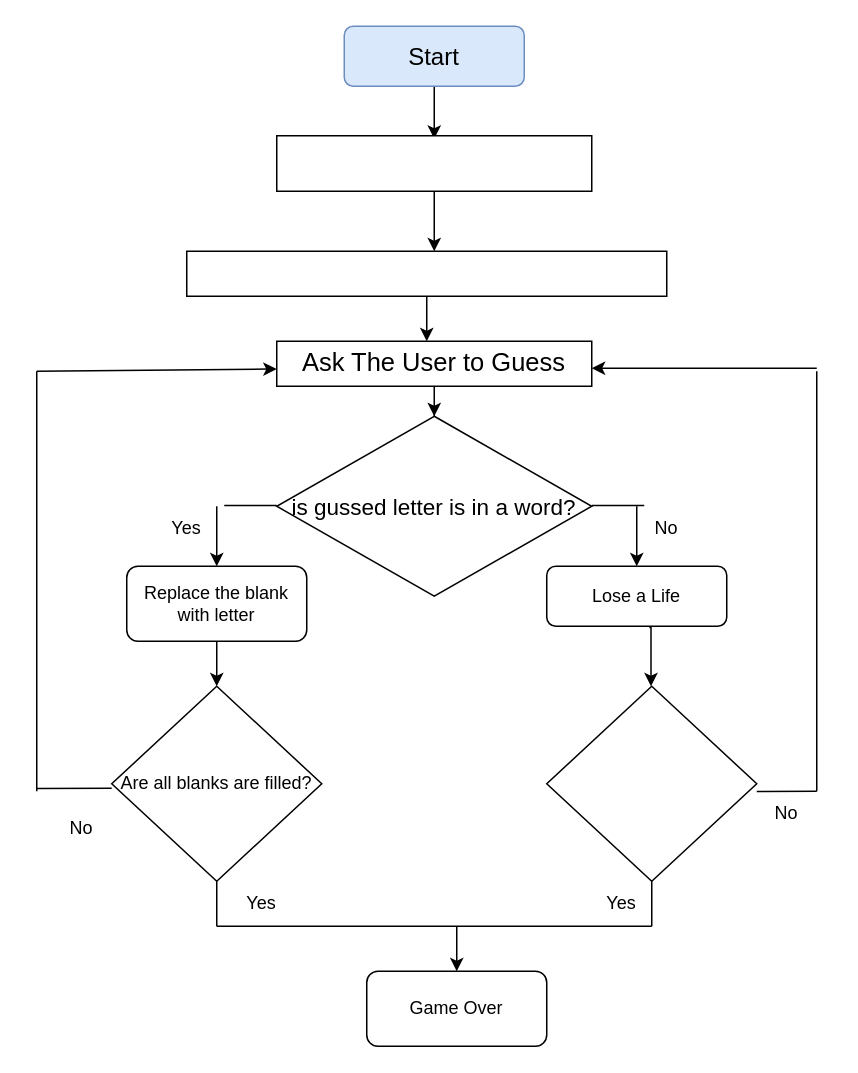
This 858x1073 diagram has some shape labels left out. Here are the shapes that lost their labels. From the top down, the centre of each, then its label:
At point 433,162: "Generate a Random Word".
At point 426,273: "Generate as many blanks as in word".
At point 651,783: "Have they run out of lives?".
